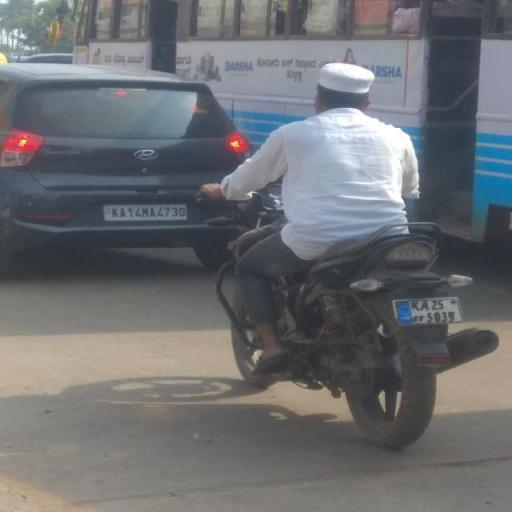bike: (188, 55, 502, 452)
numberplate: (392, 292, 460, 328)
withouthelmet: (318, 64, 374, 108)
